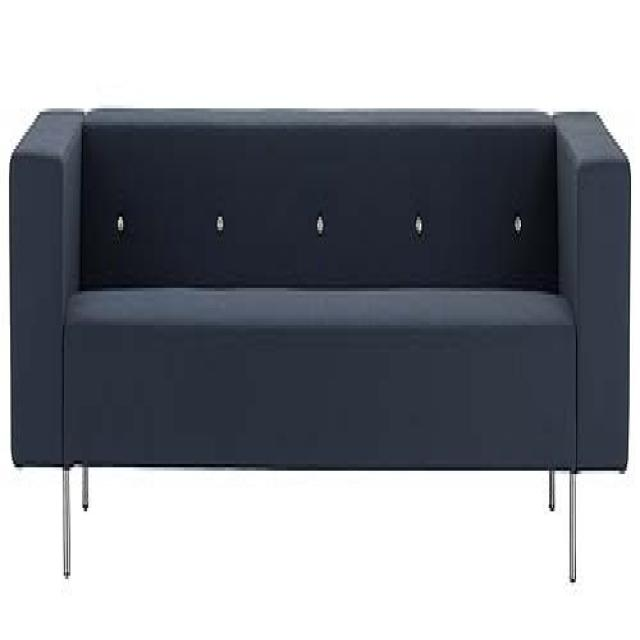sofa: (9, 105, 630, 582)
